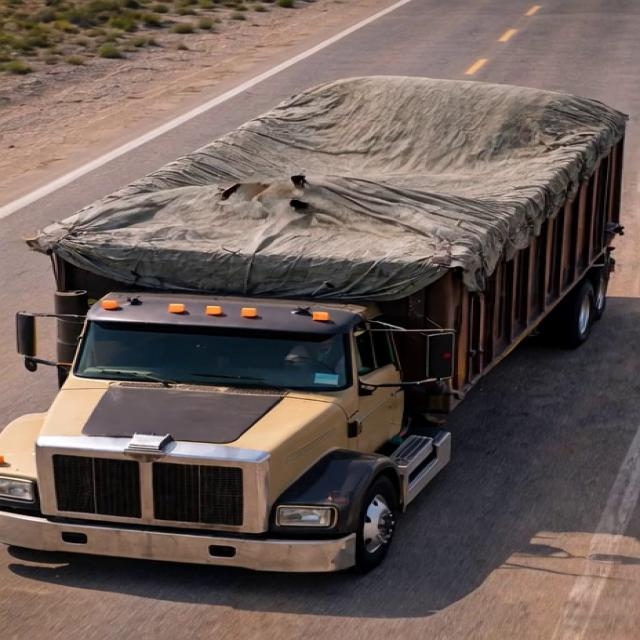trailer: (42, 68, 635, 277)
truck: (2, 29, 638, 565)
